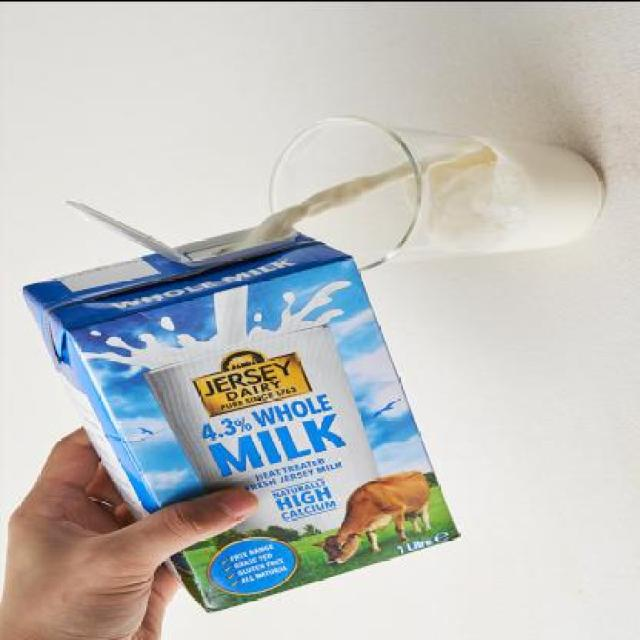tetra: (0, 184, 498, 617)
